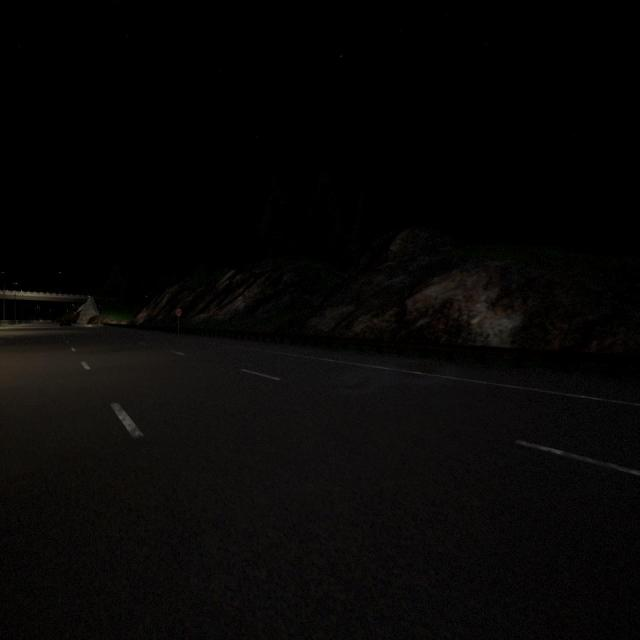Vehicle: (59, 318, 72, 328)
traffic_light: (174, 308, 182, 317)
